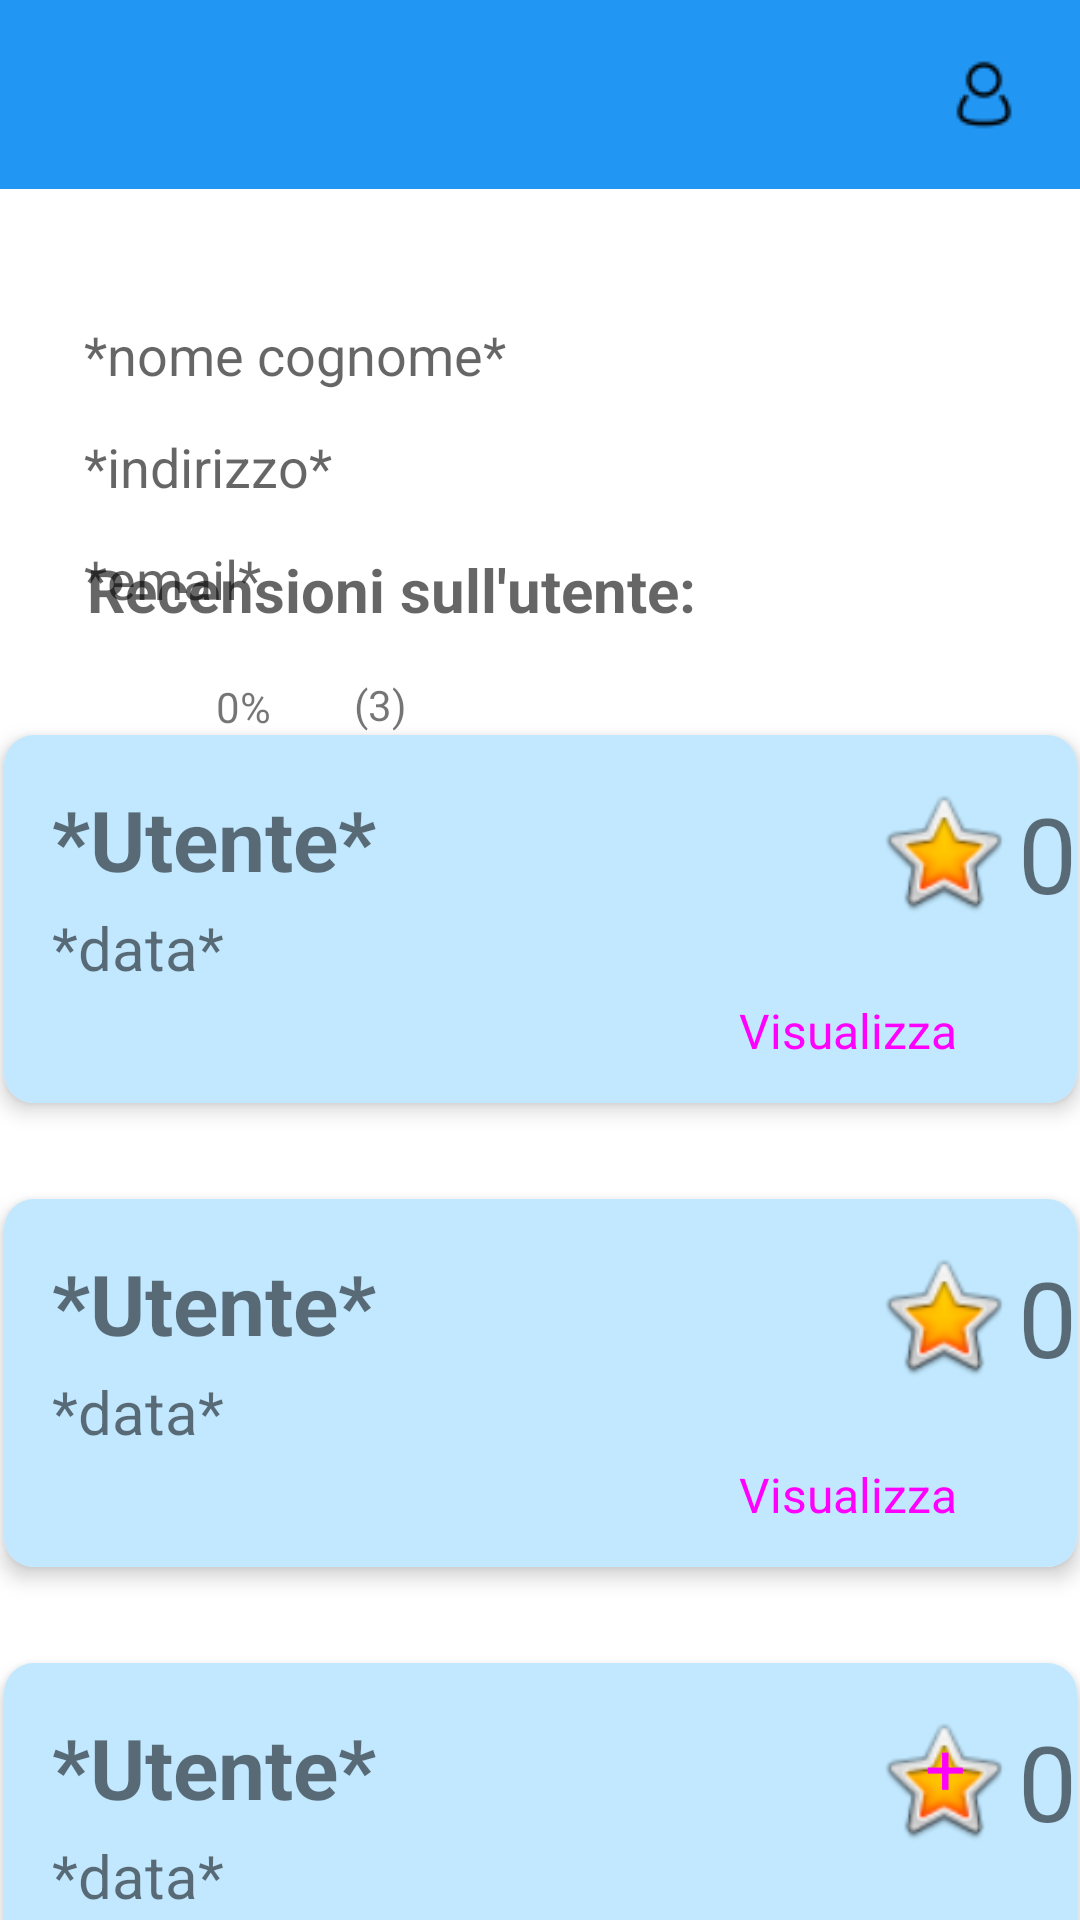

Named icons in this screenshot (1080 × 1920) and their centers, (x=x, y=y):
usericon: (x=984, y=94)
